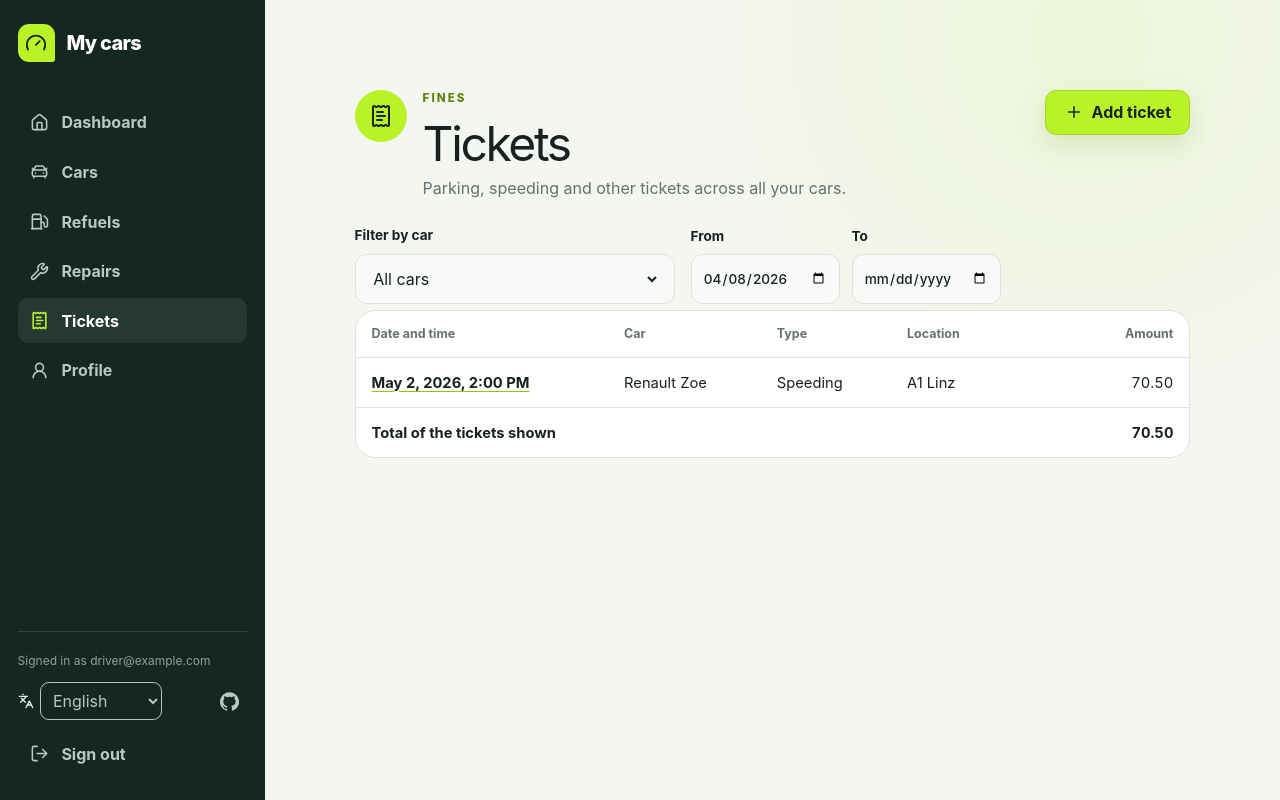
Scenario: tickets list › follows a switch to German
The image size is (1280, 800).
Expected: the text "A1 Linz" is shown, top-left (891, 358), bottom-right (1082, 408)
Select "Deutsch" in the dropdown named "Language" at [101, 701], box top-left (40, 682), bottom-right (162, 720)
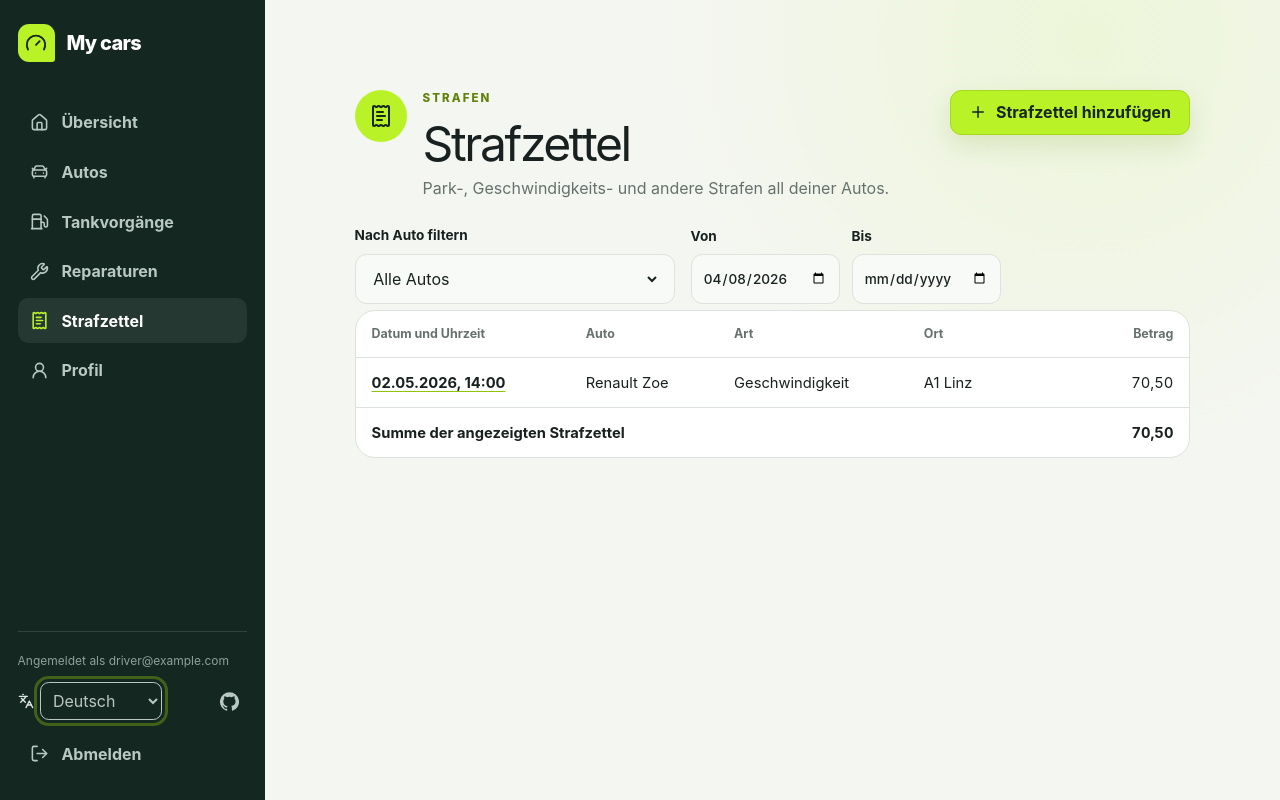
Now the heading "Strafzettel" is shown, box top-left (423, 114), bottom-right (630, 173)
Now the column heading "Ort" is shown, box top-left (908, 311), bottom-right (1094, 357)
Now the row "02.05.2026, 14:00 Renault Zoe Geschwindigkeit A1 Linz 70,50" is shown, box top-left (356, 358), bottom-right (1189, 408)
